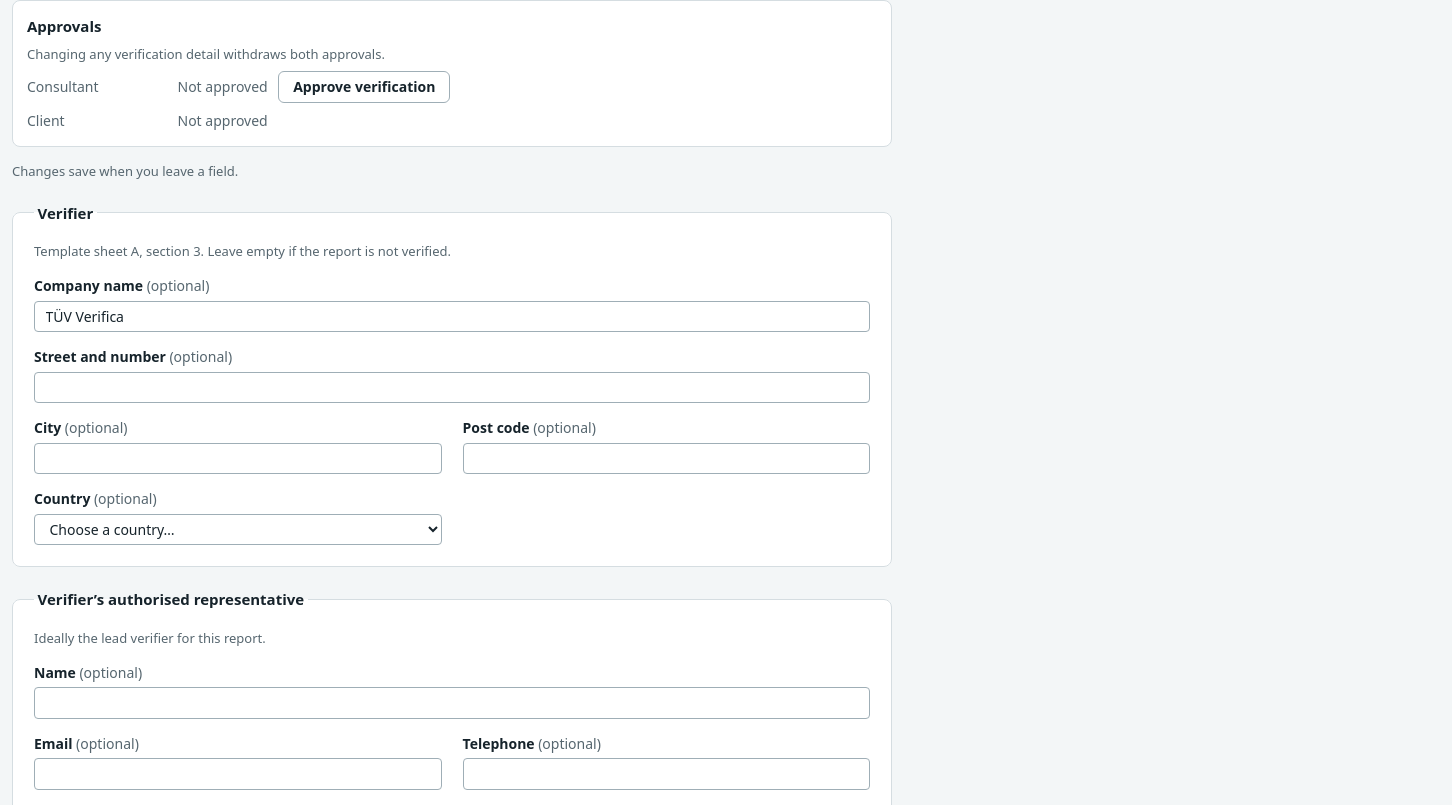
Test: verification (M13-R7) › the consultant approves once details exist; a locked period is read-only
Step 1. Click the button "Approve verification" → (364, 87), box [278,71,450,102]
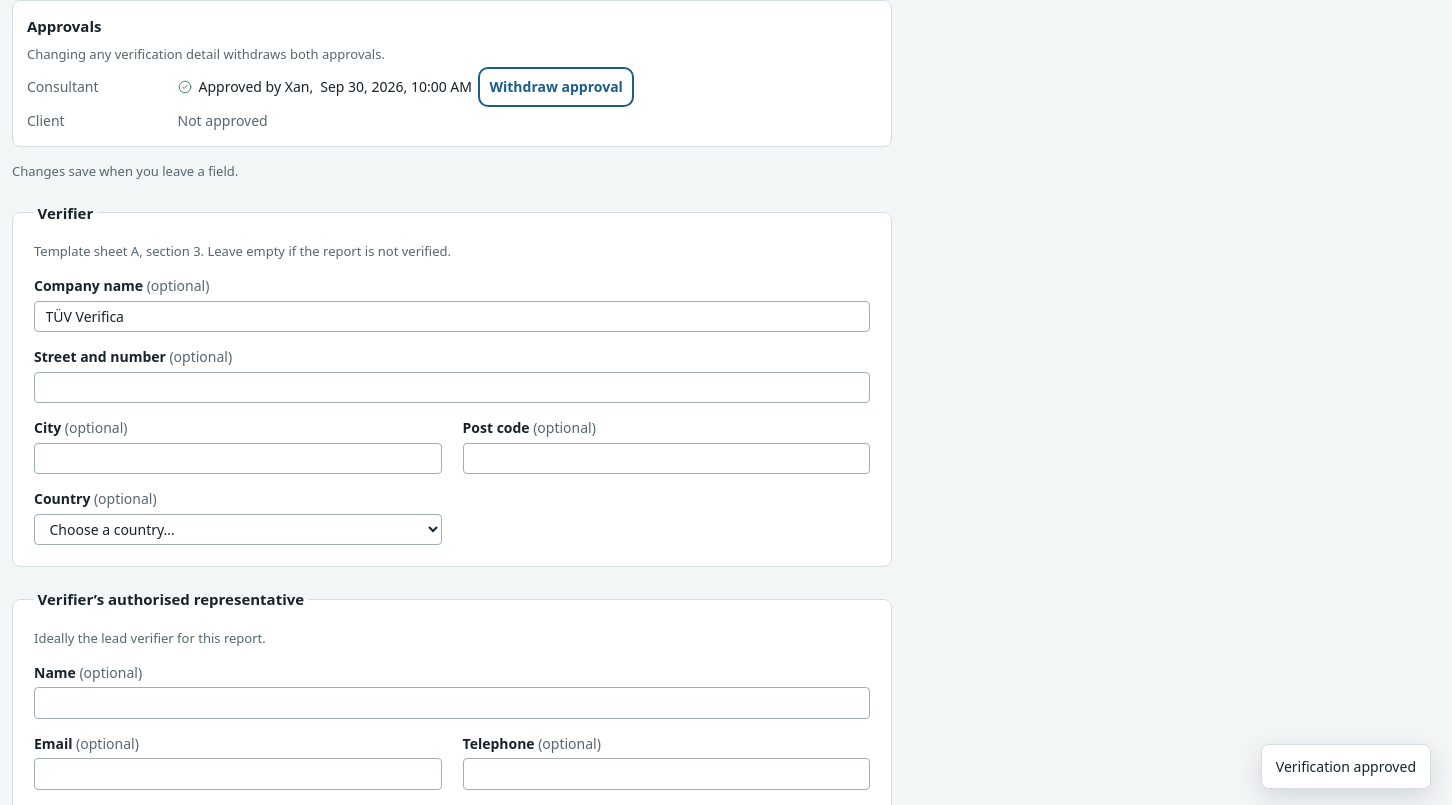
Expected: the text "Approved by Xan, Sep 30, 2026, 10:00 AM" is shown, [178,76,472,98]
